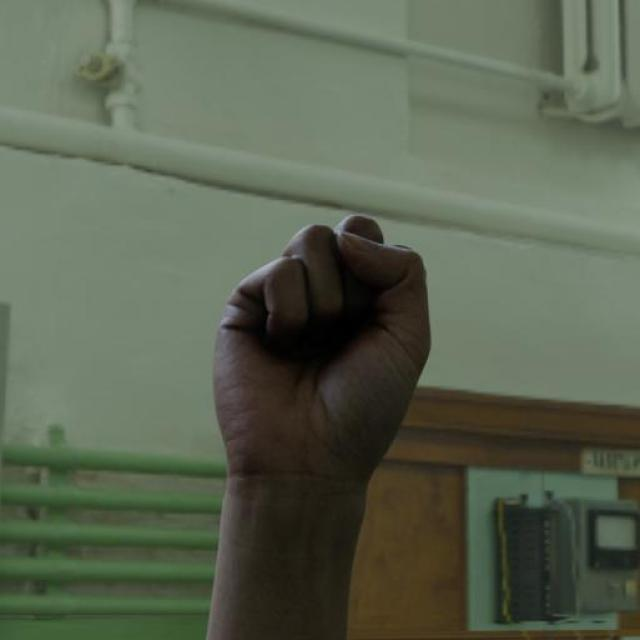S: (208, 213, 434, 487)
